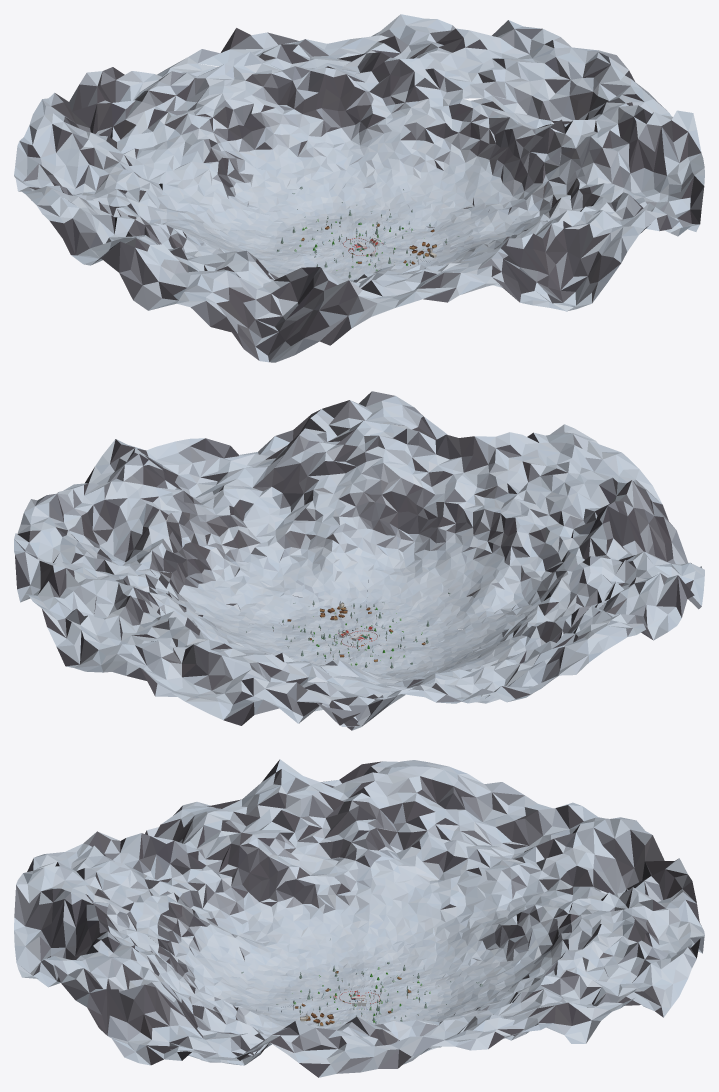
The model's file is world_race_lite.glb.
3 views of the same model, one above another, from view 1: azimuth 30°, elevation 25°; view 2: azimuth 150°, elevation 25°; view 3: azimuth 270°, elevation 25° (orthographic).
Parts seen in each view (by area): view 1: Sector4, Sector5, Sector6, Sector3, Sector0, Sector7, Sector2, Sector1; view 2: Sector1, Sector2, Sector3, Sector4, Sector5, Sector0, Sector7, Sector6; view 3: Sector7, Sector0, Sector6, Sector1, Sector2, Sector5, Sector3, Sector4.
Part boxes in pixels (box(x1,y1,x2,y2)): Sector4: box(359, 20, 656, 247); Sector5: box(188, 14, 452, 245); Sector6: box(29, 57, 357, 246); Sector3: box(360, 89, 704, 256); Sector0: box(59, 216, 360, 362); Sector7: box(14, 124, 356, 263); Sector2: box(360, 192, 690, 311); Sector1: box(268, 247, 521, 362); Sector1: box(360, 424, 688, 638); Sector2: box(270, 391, 495, 638); Sector3: box(63, 435, 360, 637); Sector4: box(14, 485, 359, 646); Sector5: box(25, 580, 357, 701); Sector0: box(359, 524, 704, 654); Sector7: box(360, 606, 652, 703); Sector6: box(185, 639, 447, 730); Sector7: box(346, 760, 603, 996); Sector0: box(145, 759, 367, 996); Sector6: box(362, 817, 704, 998); Sector1: box(14, 831, 355, 998); Sector2: box(14, 892, 355, 1043); Sector5: box(361, 916, 704, 1021); Sector3: box(112, 987, 373, 1077); Sector4: box(349, 985, 600, 1072).
Bounding box in the file's own units: 1440 × 242 × 1440.
